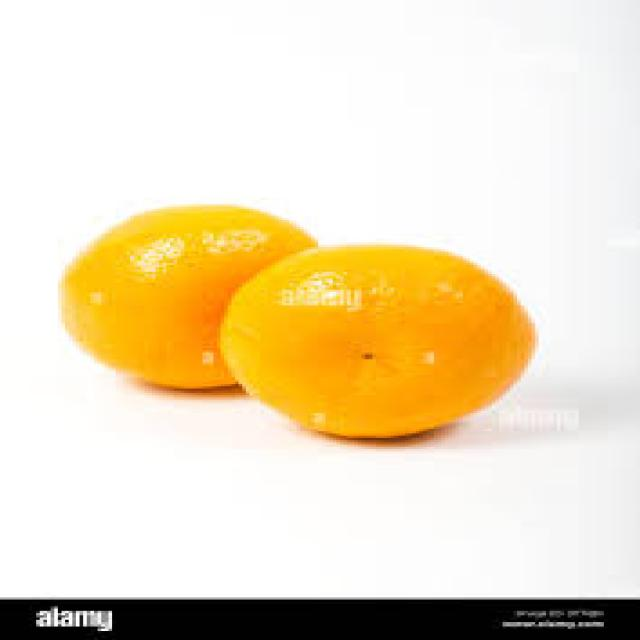orange: (227, 238, 538, 444), (55, 203, 325, 391)
